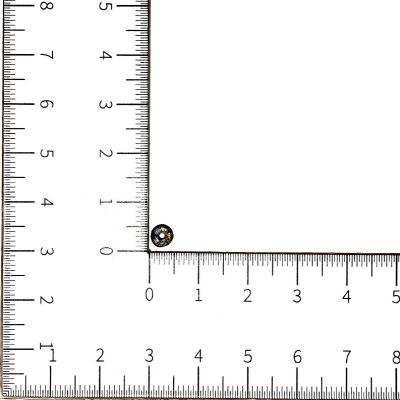archeology: (150, 224, 175, 251)
